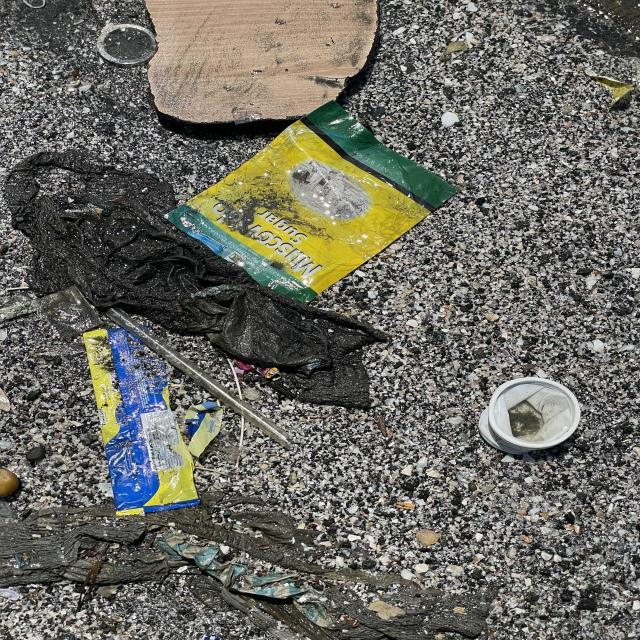plastic_waste: (165, 101, 459, 304), (108, 309, 296, 449), (83, 331, 205, 517), (479, 379, 583, 455)
